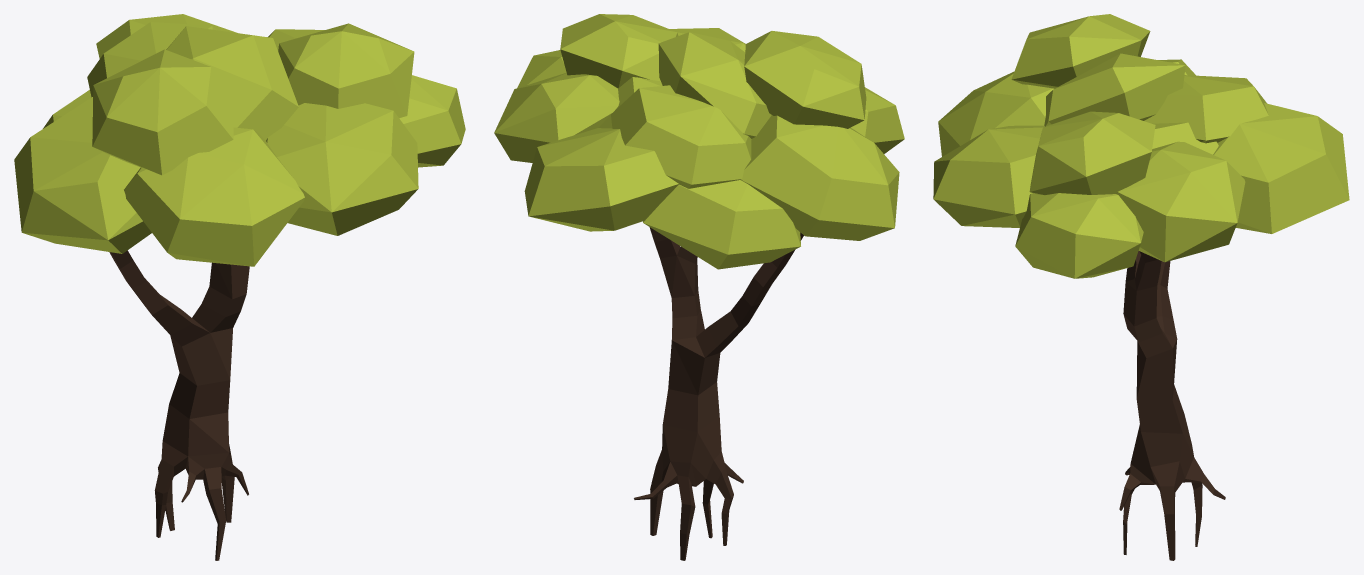
Rendered from Tree_04.fbx.
3 views of the same model, side by side, from view 1: azimuth 30°, elevation 25°; view 2: azimuth 150°, elevation 25°; view 3: azimuth 270°, elevation 25° (orthographic). The views are drawn at different scales.
Visible parts, largest first — view 1: Tree_04; view 2: Tree_04; view 3: Tree_04.
Boxes of the visible parts, x1=… form: Tree_04: x1=14, y1=14, x2=465, y2=560; Tree_04: x1=494, y1=14, x2=904, y2=560; Tree_04: x1=933, y1=14, x2=1349, y2=560.
Bounding box in the file's own units: 8.49 × 10.21 × 7.66.
